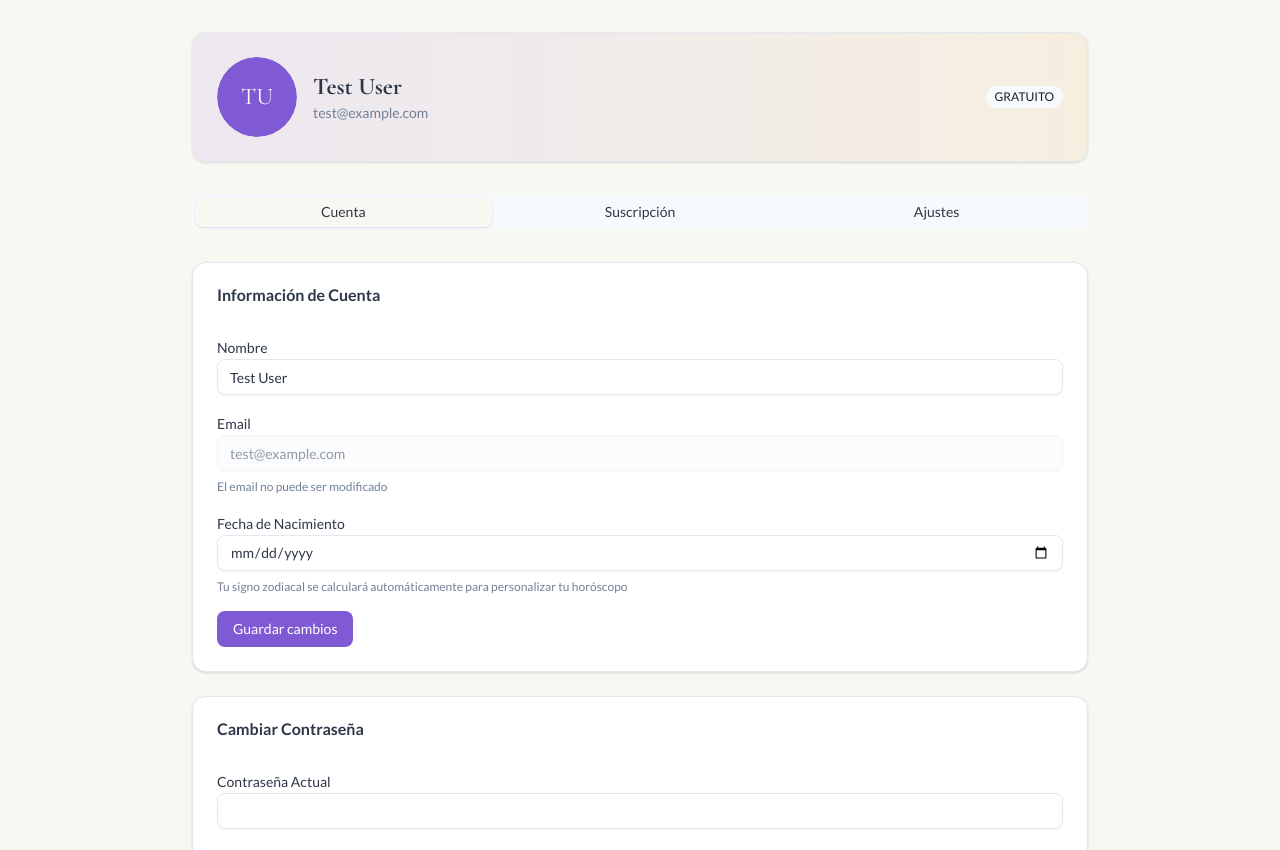
Test: PerfilPage › Tab Interactions › should switch to subscription tab when clicked
Expected: the tab "Cuenta" is shown, left=195, top=198, right=492, bottom=226
Click the tab "Suscripción".
click(640, 212)  # box left=492, top=198, right=788, bottom=226
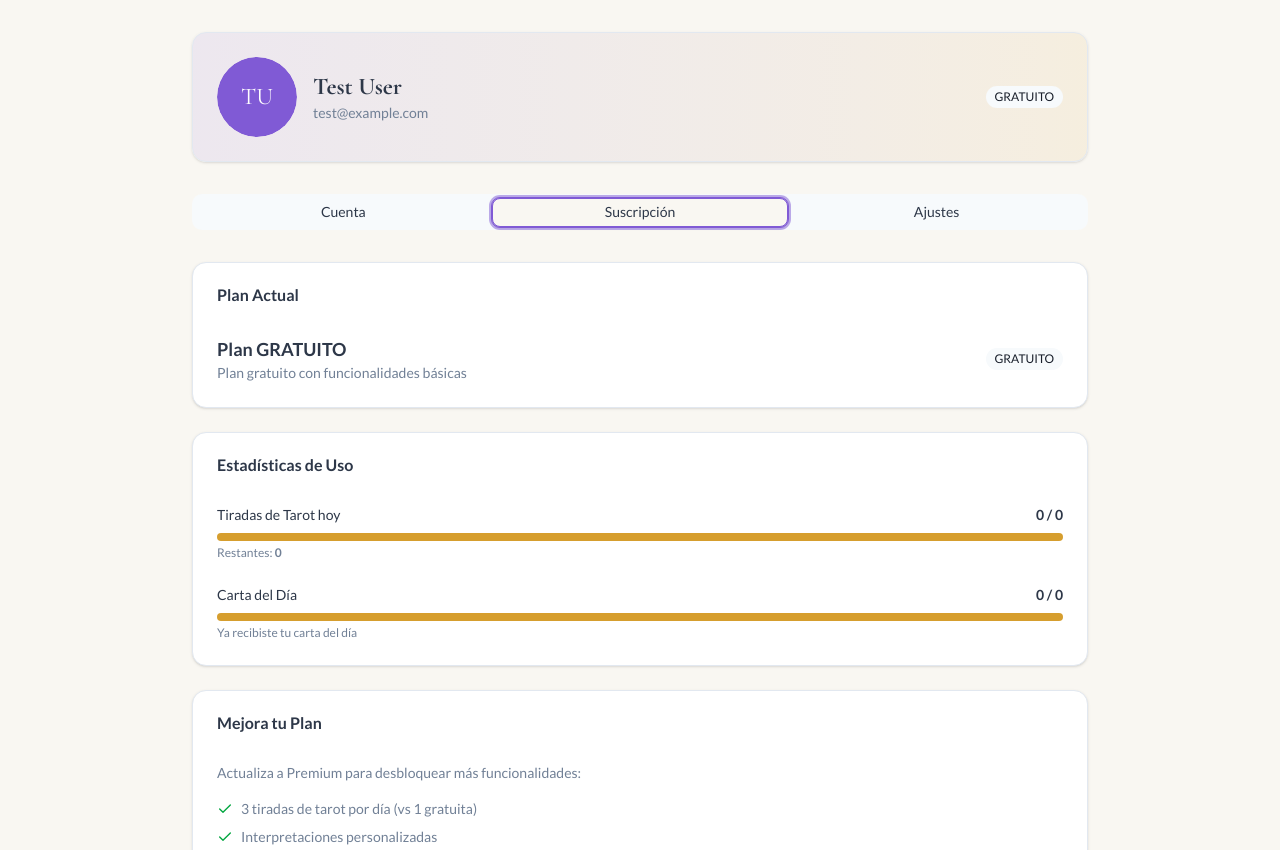
Expected: the text "Plan Actual" is shown, left=217, top=285, right=299, bottom=304
Expected: the text "Estadísticas de Uso" is shown, left=217, top=455, right=353, bottom=474
